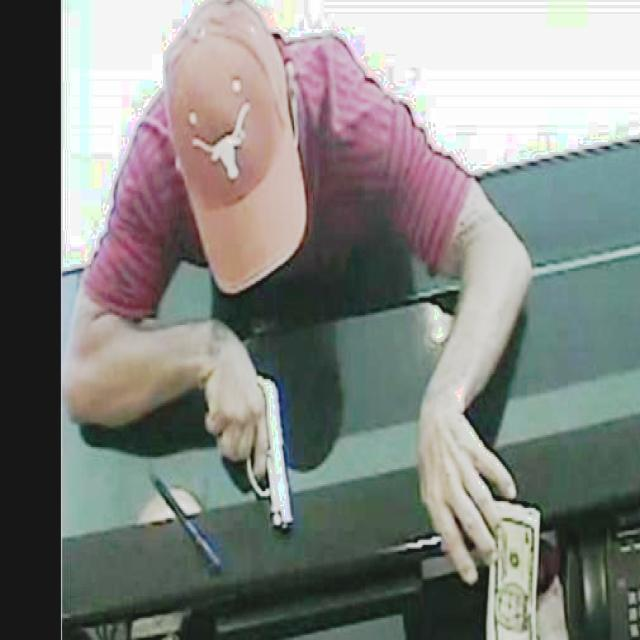Gun: (209, 352, 303, 535)
